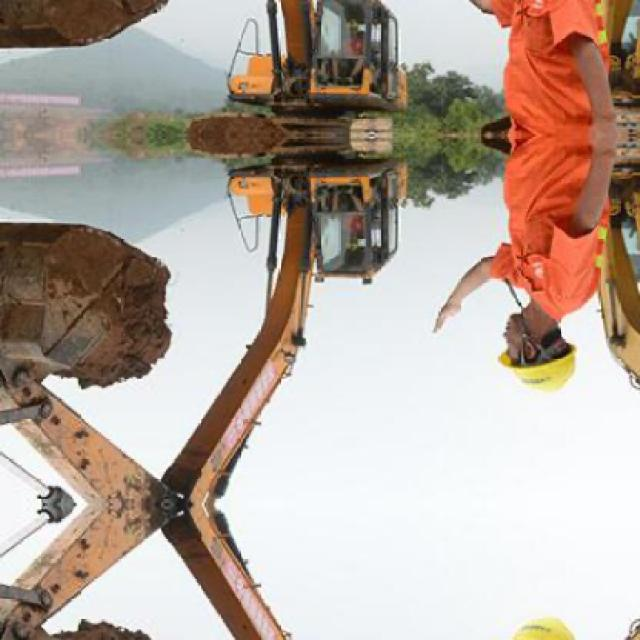con casco: (466, 281, 617, 405)
